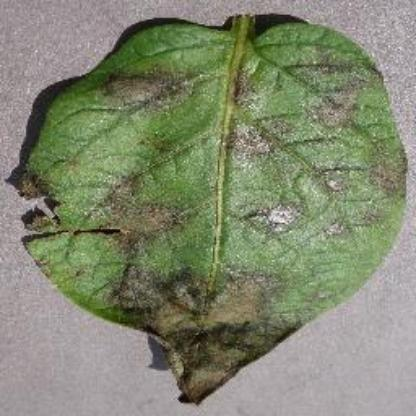Late-Blight: (10, 12, 408, 404)
